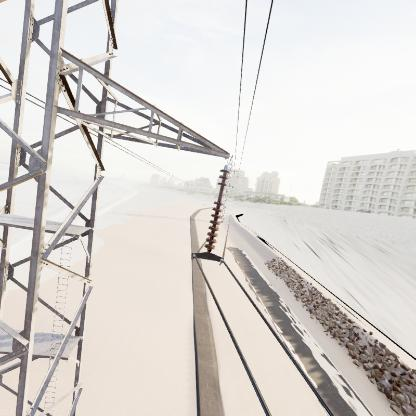insulator: (200, 165, 231, 254)
